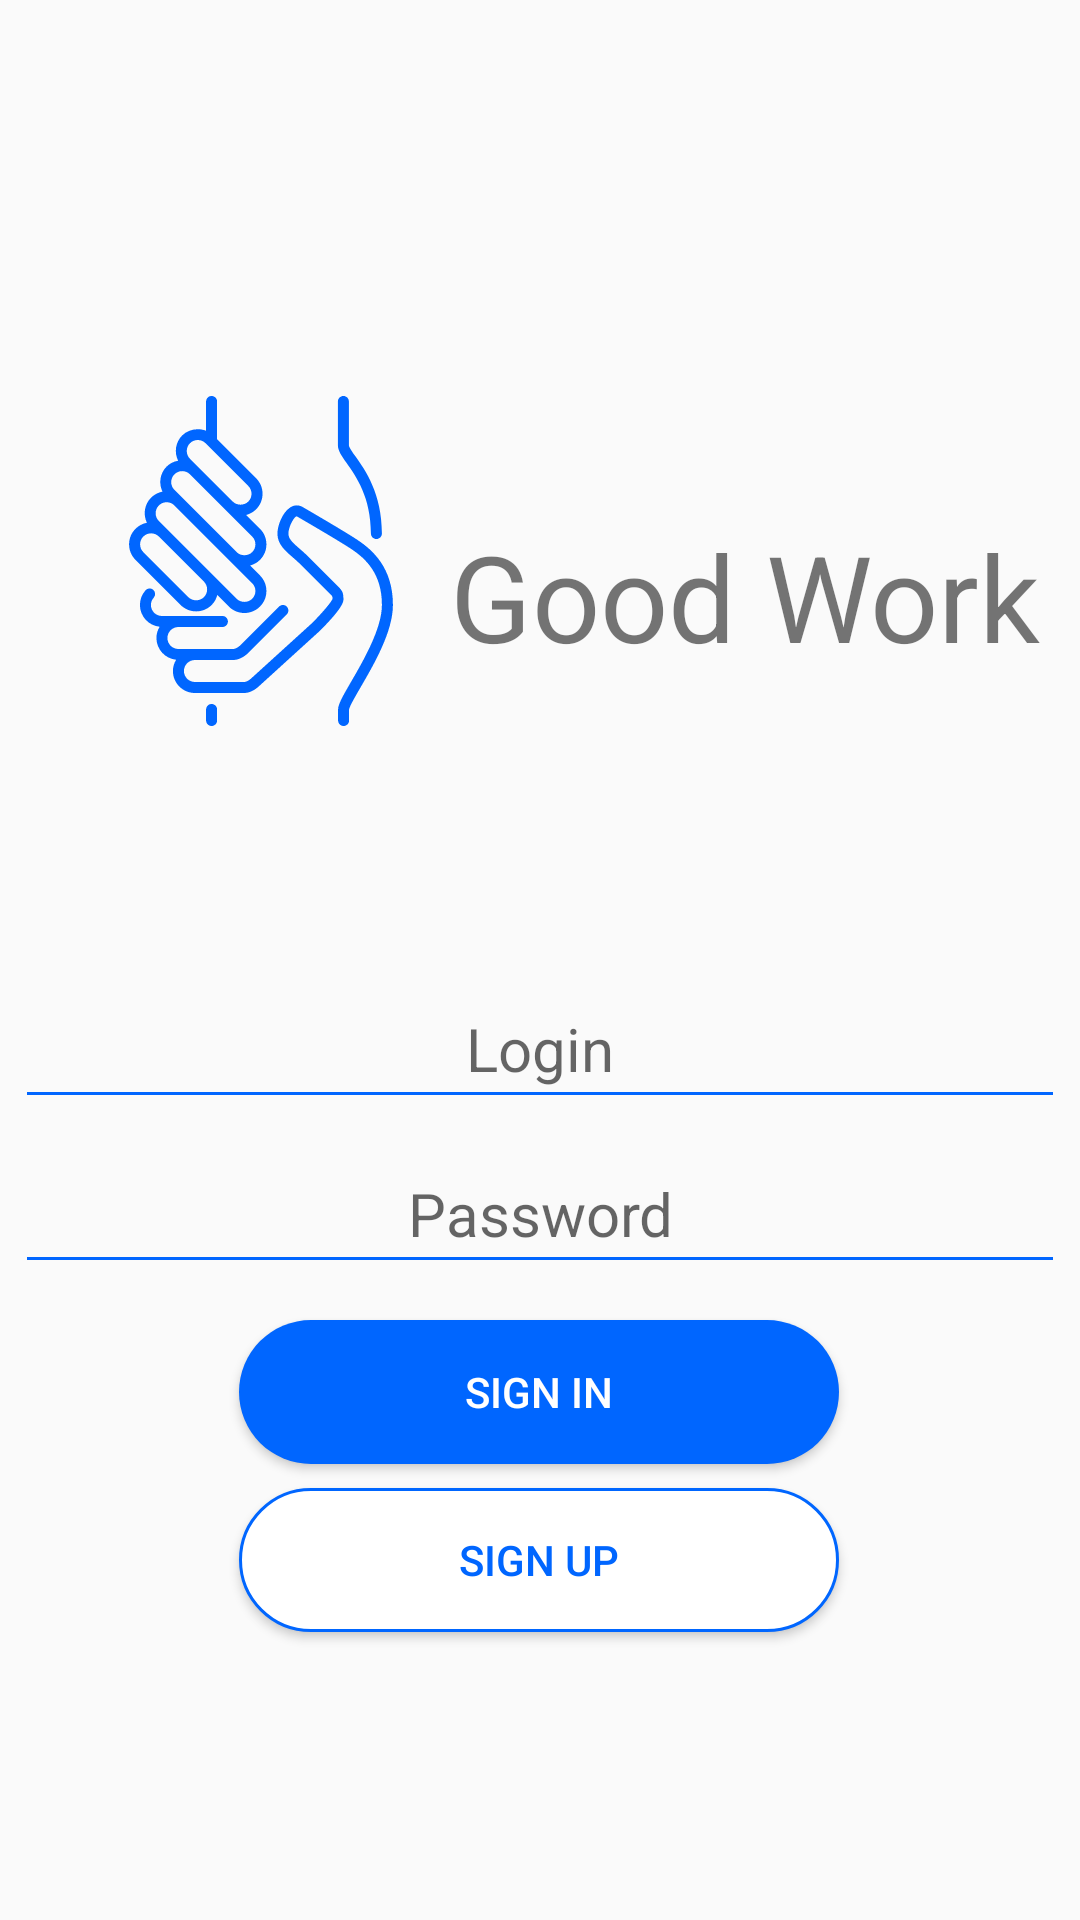

Icon click points for this 1080w x 1920h phone screenshot, format (x,y):
charity: (261,561)
